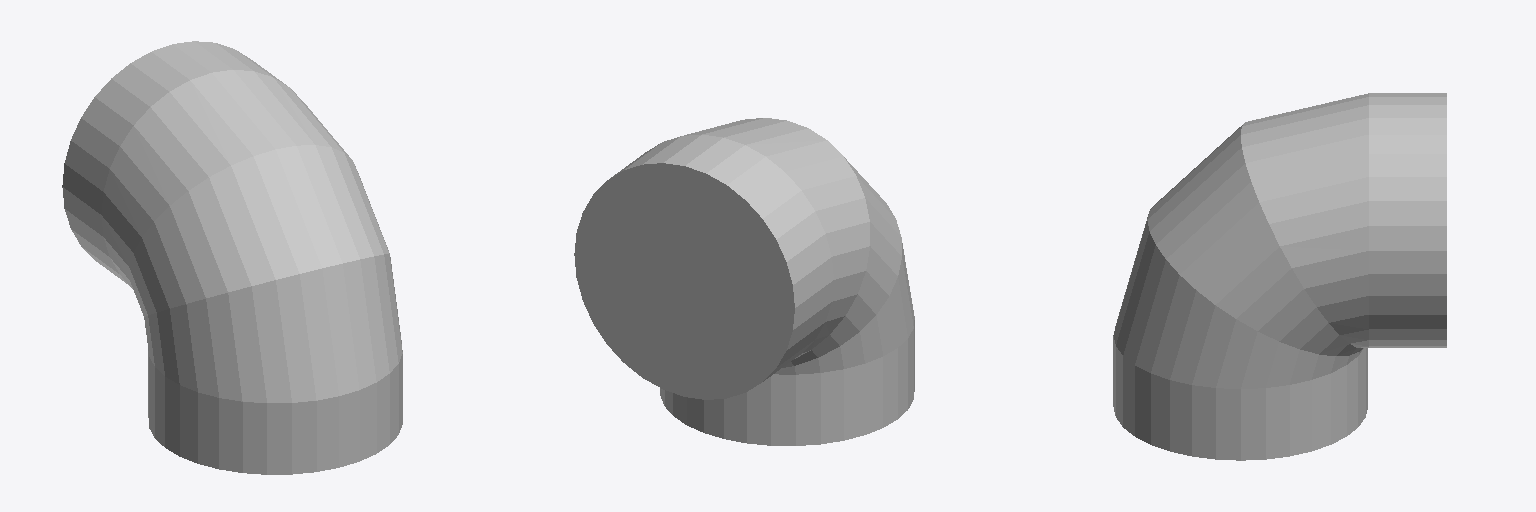
File: pipe_corner.obj
3 views of the same model, side by side, from view 1: azimuth 30°, elevation 25°; view 2: azimuth 150°, elevation 25°; view 3: azimuth 270°, elevation 25° (orthographic).
Visible parts, largest first — view 1: Цилиндр; view 2: Цилиндр; view 3: Цилиндр.
Part boxes in pixels (x1,y1,x2,y2): Цилиндр: (62,41,402,474); Цилиндр: (574,118,914,445); Цилиндр: (1113,93,1446,460).
Size of the model in its own units: 0.5777 by 0.7549 by 0.7556.